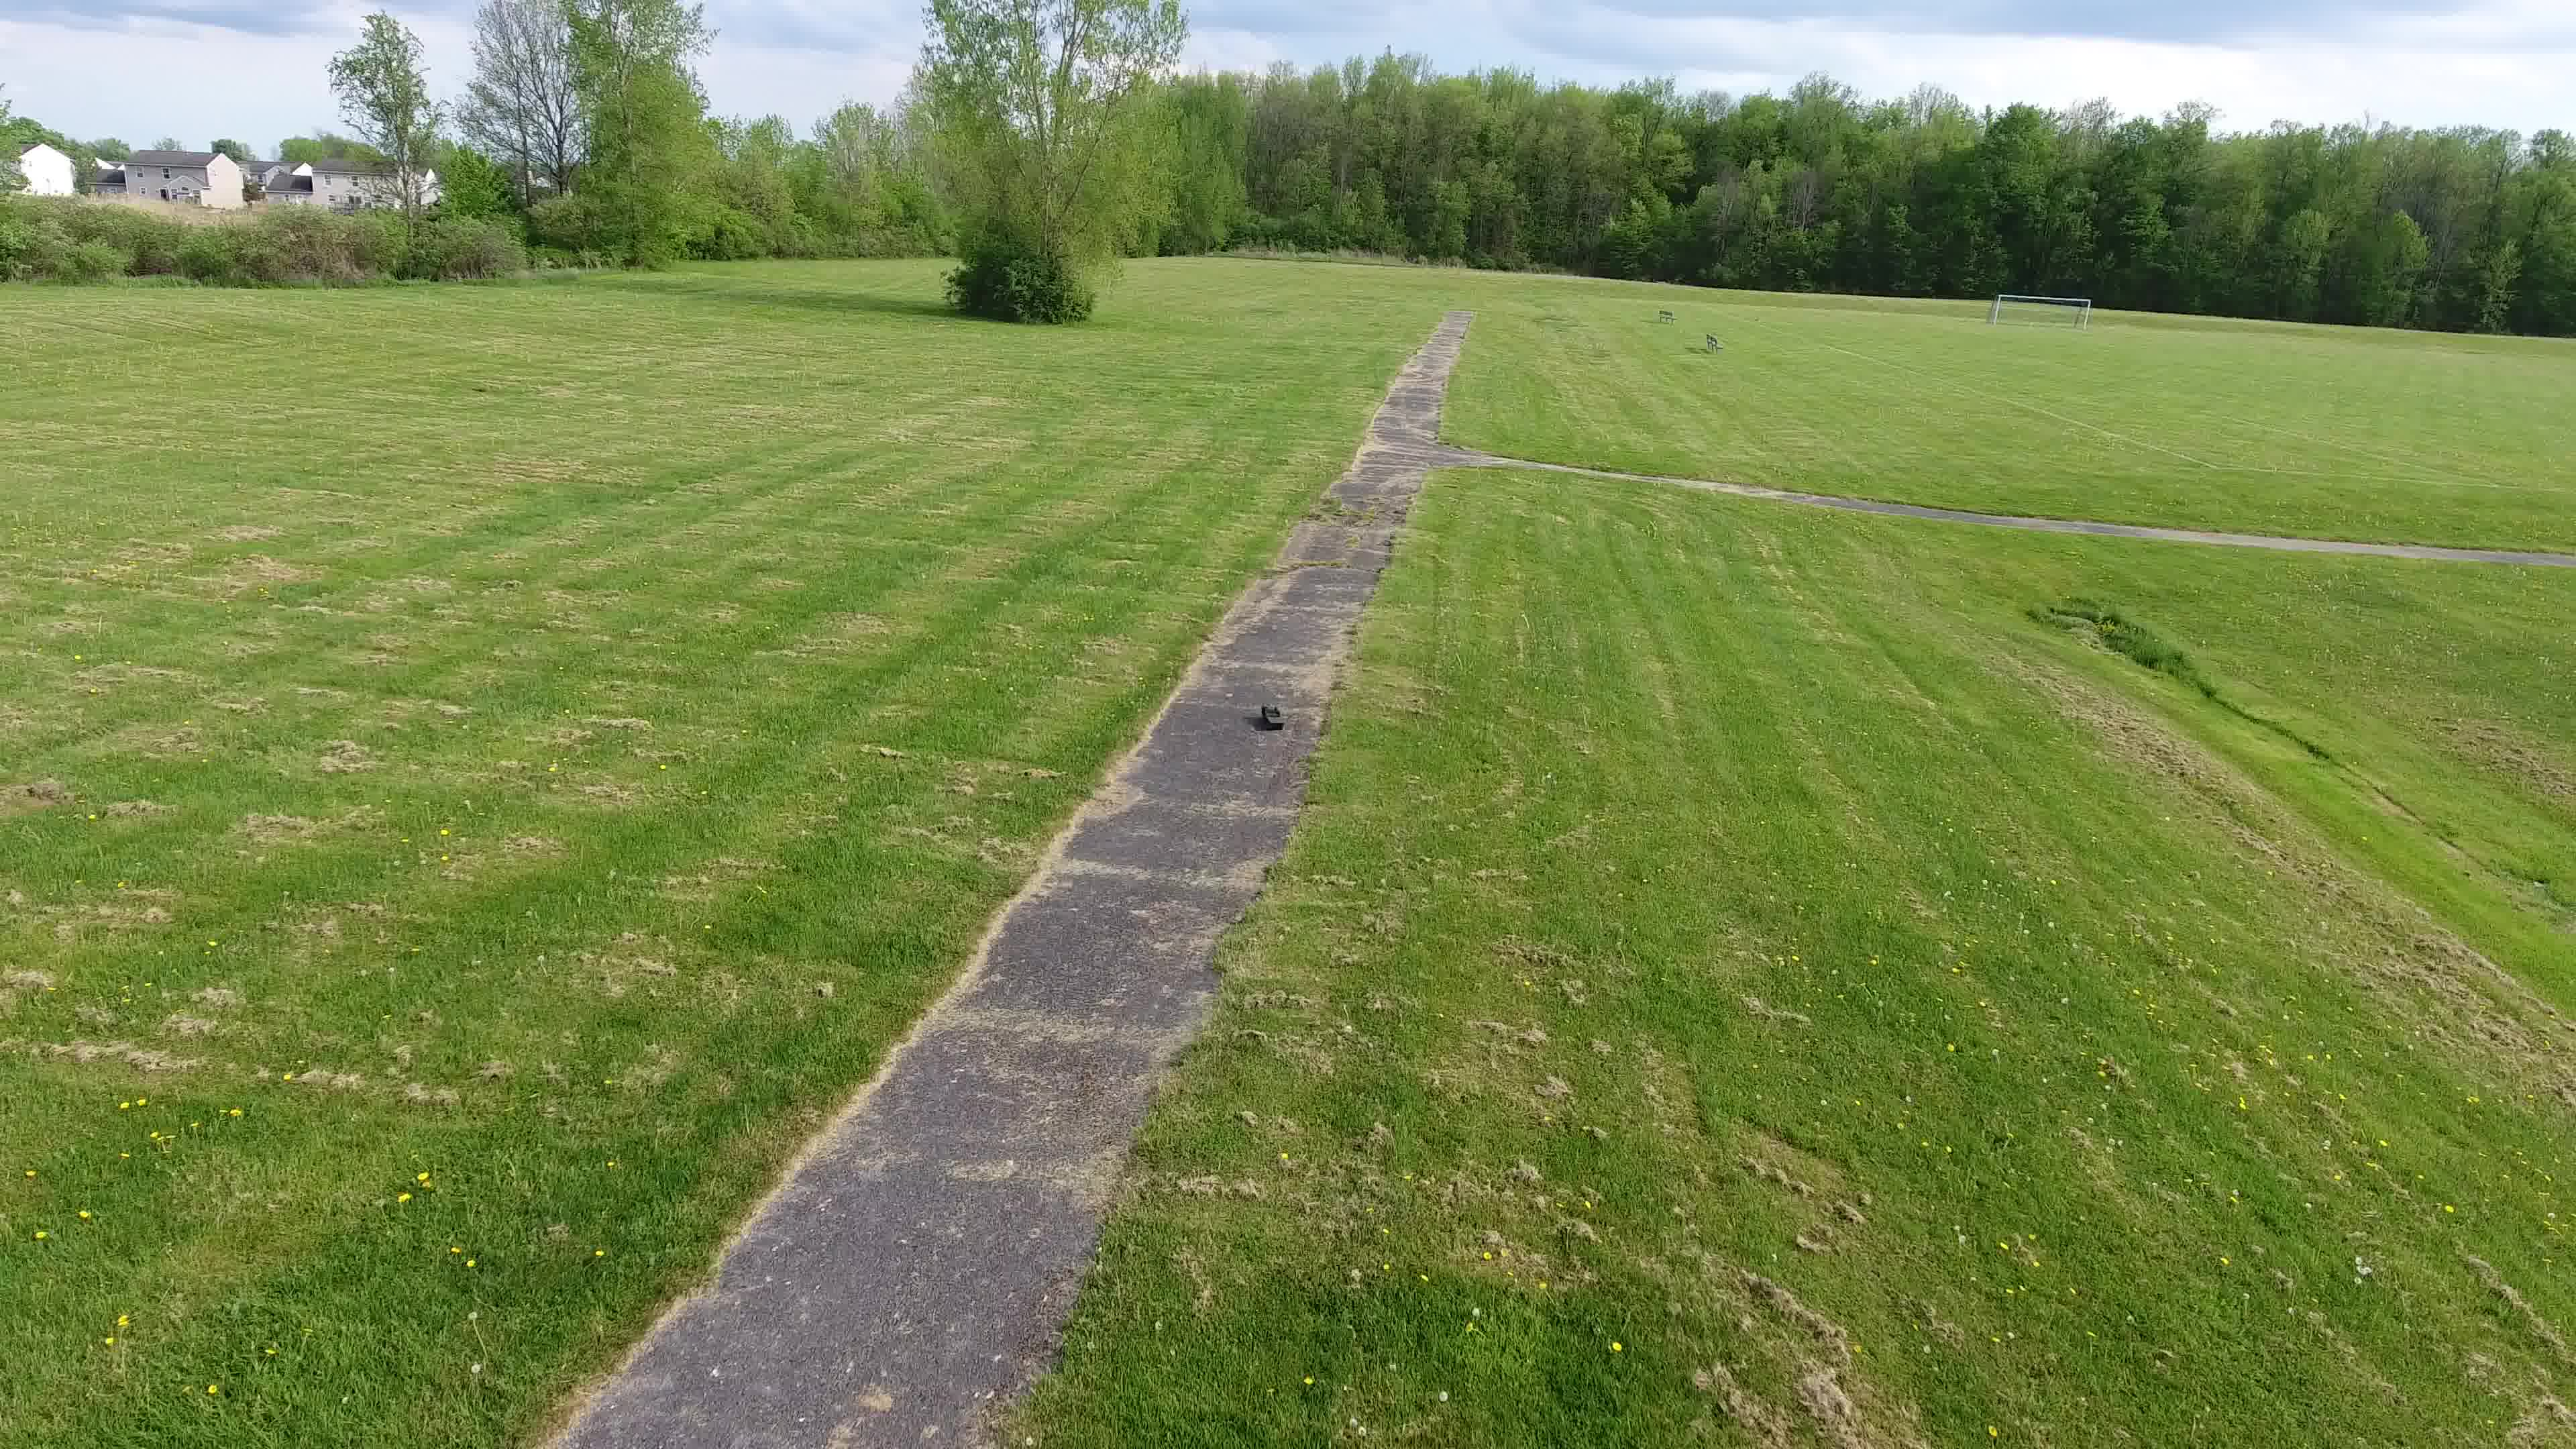transporter9_camo: (1260, 704, 1288, 731)
